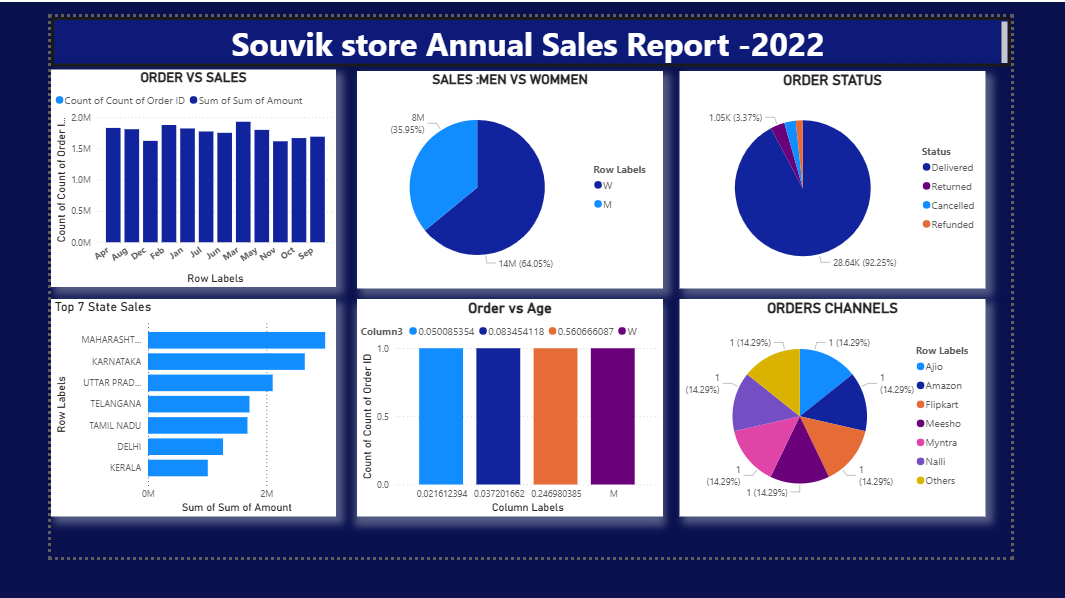

The page's visual inventory and layout, read from the dashboard file:
{"tool":"powerbi","page":{"name":"Page 1","canvas":[1280,720],"ordinal":0},"visuals":[{"type":"shape","box":[0,0,1280,66],"z":0},{"type":"textbox","box":[0,173,1280,150],"z":1000},{"type":"textbox","box":[0,0,1280,66],"z":2000},{"type":"lineStackedColumnComboChart","title":"ORDER VS SALES","fields":{"Category":["Sheet1.Row Labels"],"Y":["CountNonNull(Sheet1.Count of Order ID)","Sum(Sheet1.Sum of Amount)"]},"box":[0,70,380,290],"z":2001},{"type":"pieChart","title":"SALES :MEN VS WOMMEN","fields":{"Category":["Sheet3.Row Labels"],"Y":["Sum(Sheet3.Sum of Amount)"]},"box":[408,72,408,290],"z":2002},{"type":"pieChart","title":"ORDER STATUS","fields":{"Category":["original_data (2).Status"],"Y":["CountNonNull(original_data (2).Status)"]},"box":[838,72,408,290],"z":2003},{"type":"pieChart","title":"ORDERS CHANNELS","fields":{"Category":["Sheet6.Row Labels"],"Y":["CountNonNull(Sheet6.Row Labels)"]},"box":[838,376,408,290],"z":2004},{"type":"barChart","title":"Top 7 State Sales","fields":{"Category":["Sheet4.Row Labels"],"Y":["Sum(Sheet4.Sum of Amount)"]},"box":[0,376,380,290],"z":2005},{"type":"columnChart","title":"Order vs Age","fields":{"Category":["Sheet5.Column Labels"],"Y":["Count(Sheet5.Count of Order ID)"],"Series":["Sheet5.Column3"]},"box":[408,376,408,290],"z":2006}]}

Visuals, with their boxes in screenshot pixels (x1, y1, x2, y2), scaled from the page's 1280x720 canvas onto the 1065x598 screenshot:
shape: Rect(0, 0, 1064, 55)
textbox: Rect(0, 144, 1064, 268)
textbox: Rect(0, 0, 1064, 55)
"ORDER VS SALES" lineStackedColumnComboChart: Rect(0, 58, 316, 299)
"SALES :MEN VS WOMMEN" pieChart: Rect(339, 60, 679, 301)
"ORDER STATUS" pieChart: Rect(697, 60, 1037, 301)
"ORDERS CHANNELS" pieChart: Rect(697, 312, 1037, 553)
"Top 7 State Sales" barChart: Rect(0, 312, 316, 553)
"Order vs Age" columnChart: Rect(339, 312, 679, 553)
